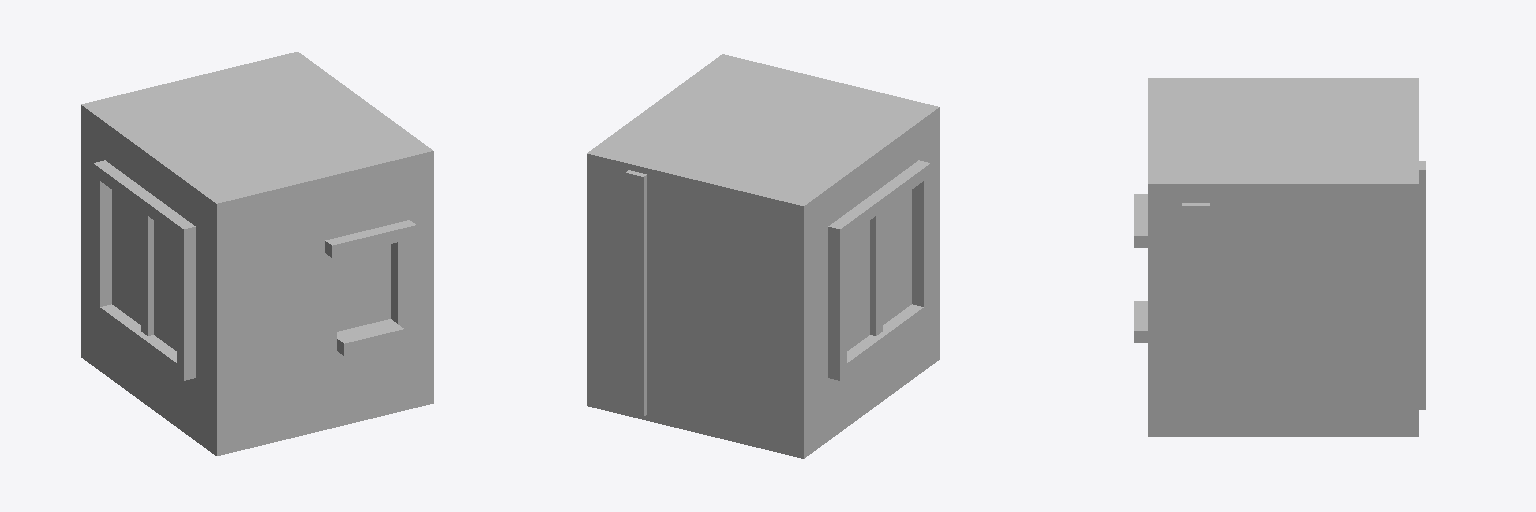
Rendered from Block 1.obj.
3 views of the same model, side by side, from view 1: azimuth 30°, elevation 25°; view 2: azimuth 150°, elevation 25°; view 3: azimuth 270°, elevation 25° (orthographic).
Bounding box in the file's own units: 39 × 40 × 42.